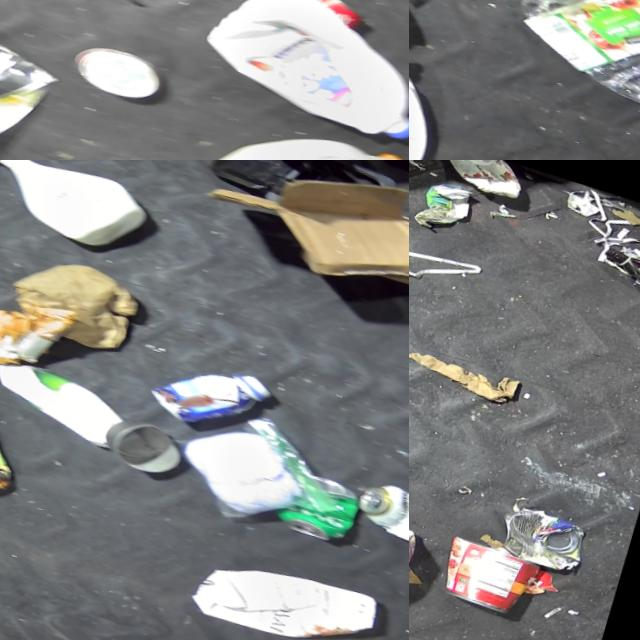can: (0, 0, 67, 160), (434, 529, 543, 616), (270, 460, 368, 546), (492, 494, 592, 573), (70, 34, 173, 107), (99, 408, 190, 480), (350, 471, 409, 553), (435, 160, 531, 198)
milk_jug: (190, 0, 409, 147), (186, 539, 383, 640), (187, 92, 409, 160), (0, 351, 132, 449)
plastic_bottle: (499, 0, 640, 123)
